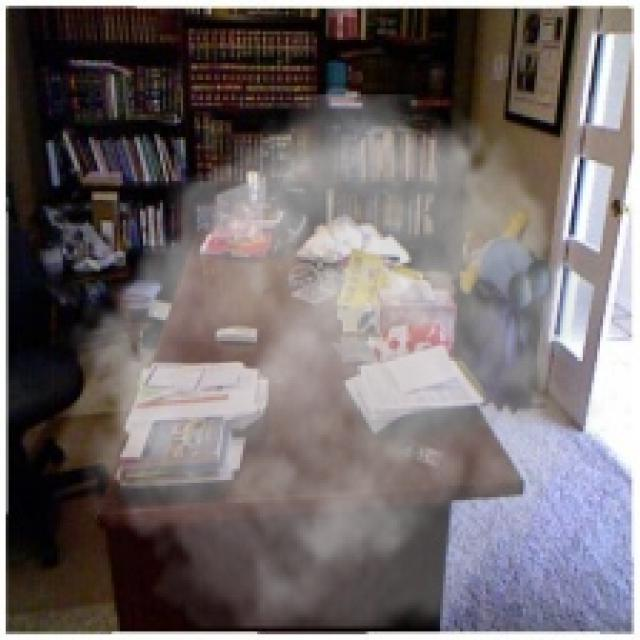smoke: (63, 94, 611, 629)
